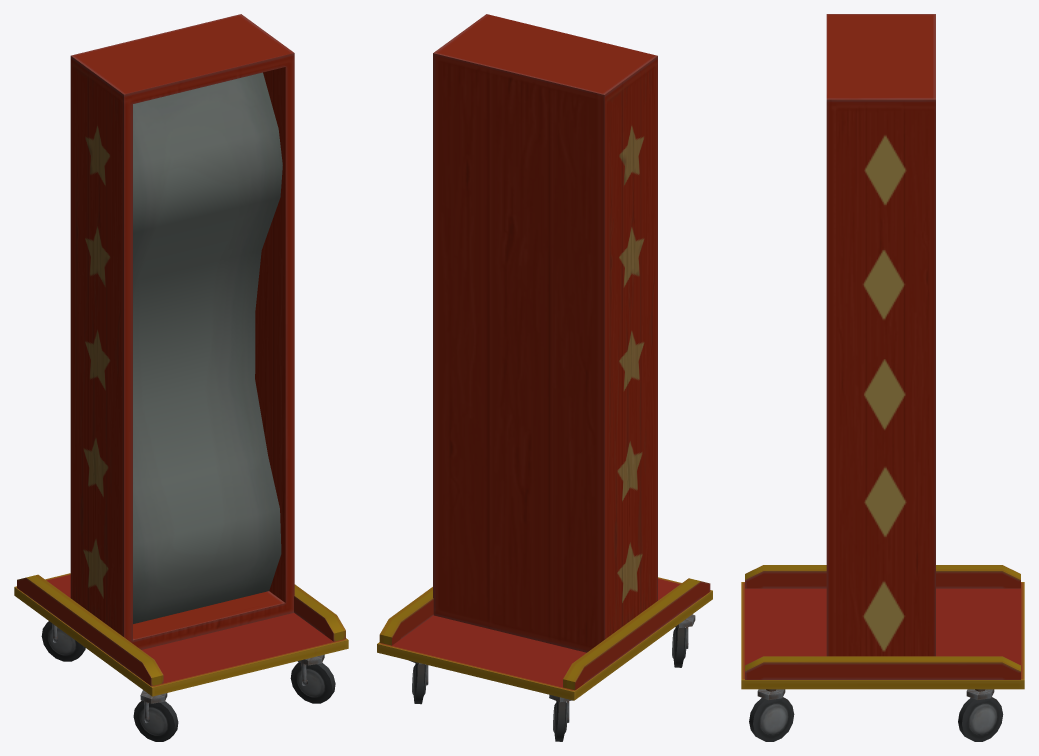
File: CrazyMirror_Red_Scaled.fbx
3 renders of one model, left to right at view 1: azimuth 30°, elevation 25°; view 2: azimuth 150°, elevation 25°; view 3: azimuth 270°, elevation 25°, orthographic. The views are drawn at different scales.
Parts seen in each view (by area): view 1: Mirror, MainFrame, BottomA, BottomB, BottomB1, WheelB4, WheelB1, WheelB2; view 2: MainFrame, BottomA, BottomB, BottomB1; view 3: MainFrame, BottomA, BottomB1, BottomB, WheelB3, WheelB1.
Boxes of the visible parts, box(x1,y1,x2,y2) form: Mirror: box(133, 72, 282, 623); MainFrame: box(70, 14, 294, 649); BottomA: box(14, 573, 348, 696); BottomB: box(17, 574, 163, 686); BottomB1: box(294, 584, 345, 641); WheelB4: box(133, 700, 178, 741); WheelB1: box(290, 662, 335, 703); WheelB2: box(41, 621, 85, 661); MainFrame: box(433, 14, 657, 652); BottomA: box(377, 577, 712, 700); BottomB: box(563, 578, 710, 690); BottomB1: box(379, 587, 433, 645); MainFrame: box(826, 14, 935, 656); BottomA: box(741, 582, 1024, 689); BottomB1: box(745, 656, 1020, 679); BottomB: box(745, 565, 1020, 588); WheelB3: box(958, 697, 1003, 741); WheelB1: box(749, 697, 794, 741).
Size of the model in its own units: 81.58 by 249 by 99.33.
